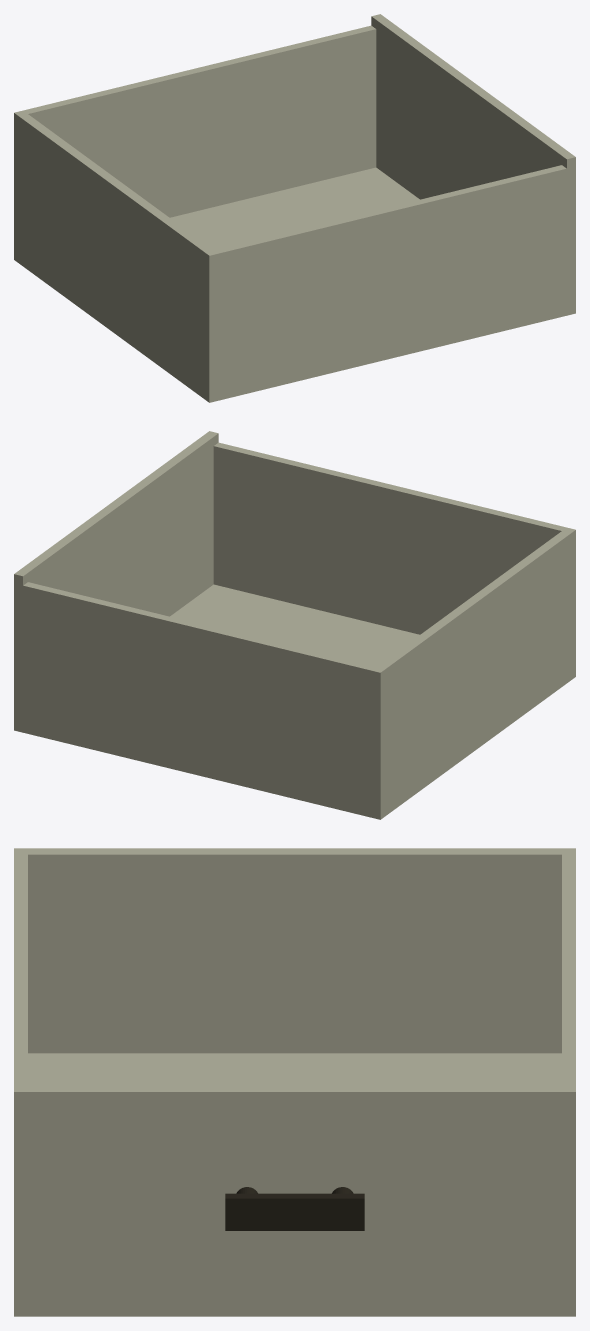
Rendered from Open2DrawerCounter(BottomDrawer).fbx.
The picture shows the model from 3 angles, top to bottom: view 1: azimuth 30°, elevation 25°; view 2: azimuth 150°, elevation 25°; view 3: azimuth 270°, elevation 25°; orthographic projection. The views are drawn at different scales.
Visible parts, largest first — view 1: Cube.003; view 2: Cube.003; view 3: Cube.003.
Boxes of the visible parts, x1,y1,x2,y2 form: Cube.003: [14, 14, 575, 402]; Cube.003: [14, 431, 575, 819]; Cube.003: [14, 848, 575, 1316].
Bounding box in the file's own units: 471 × 544 × 208.
